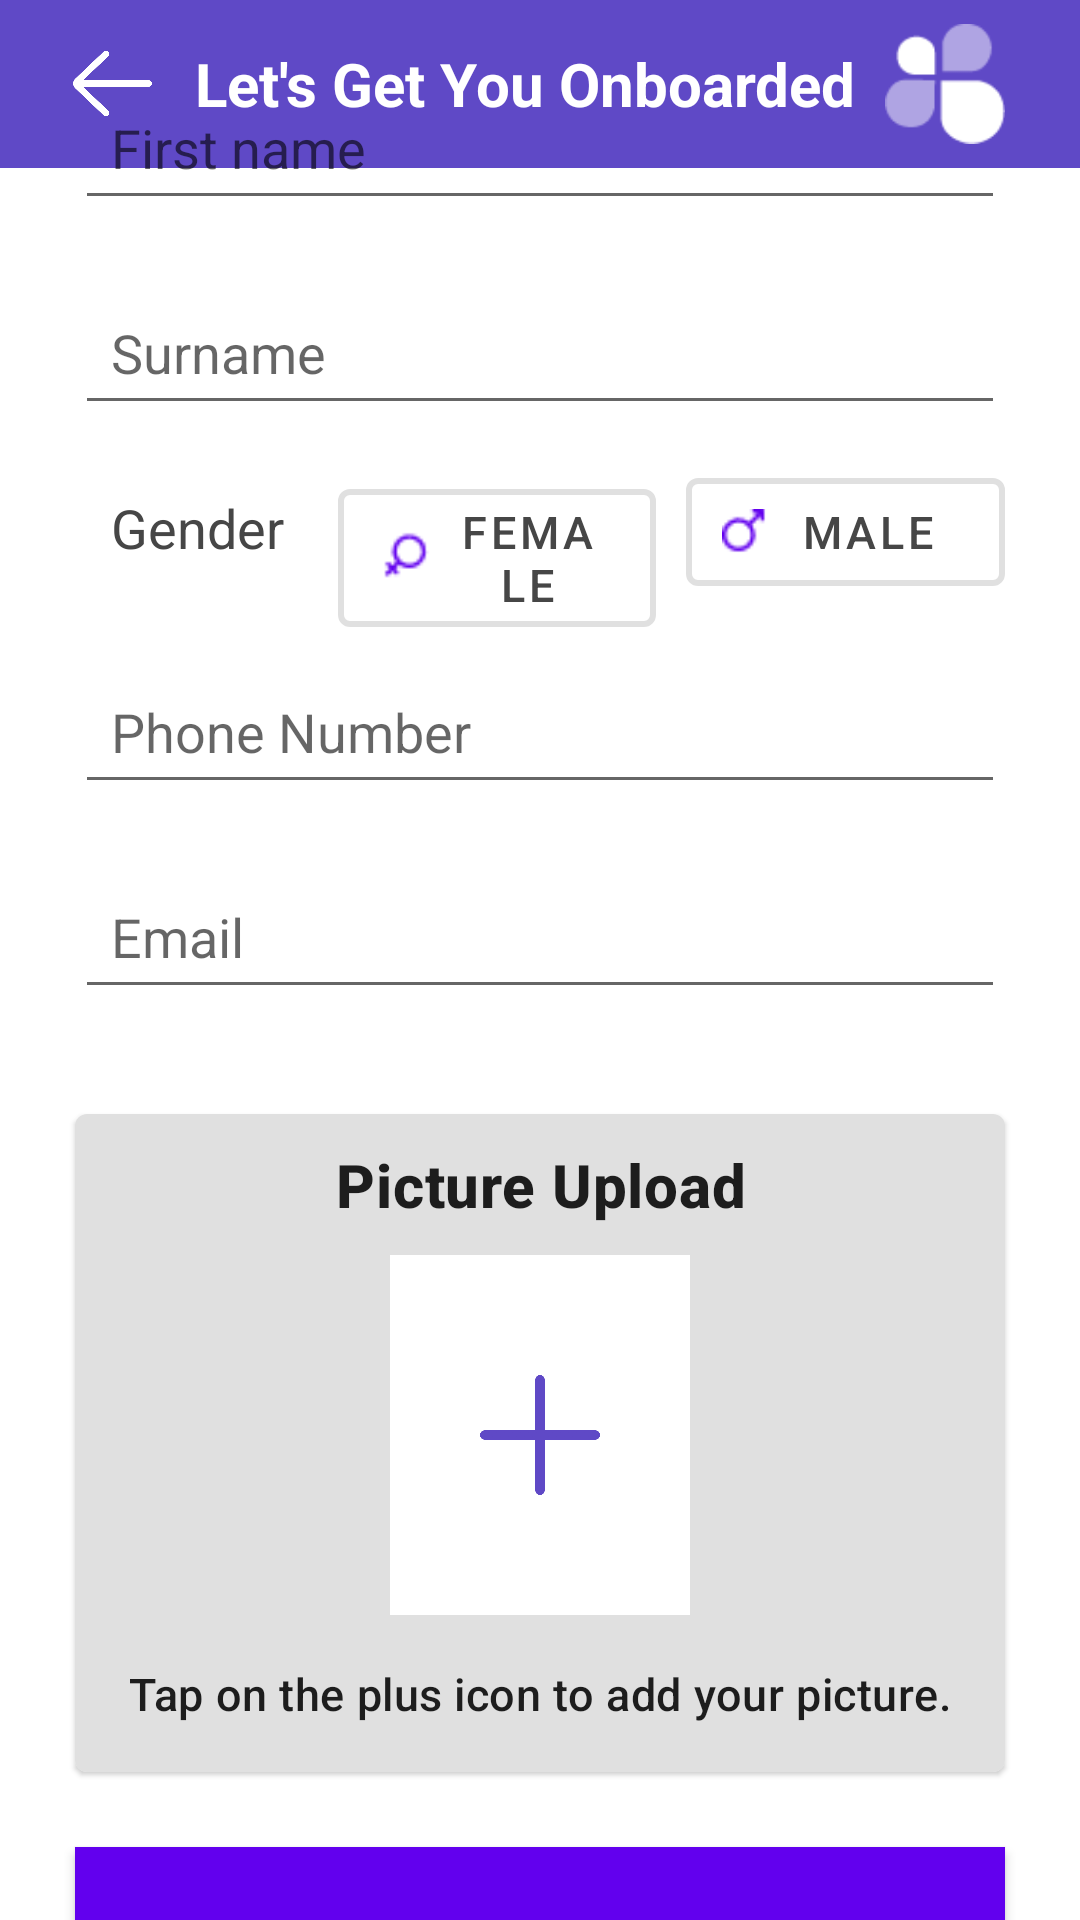

Where to tap for icons on this 1080 × 1920 app screen, as (x=x, y=y):
leftarrow: (x=112, y=93)
